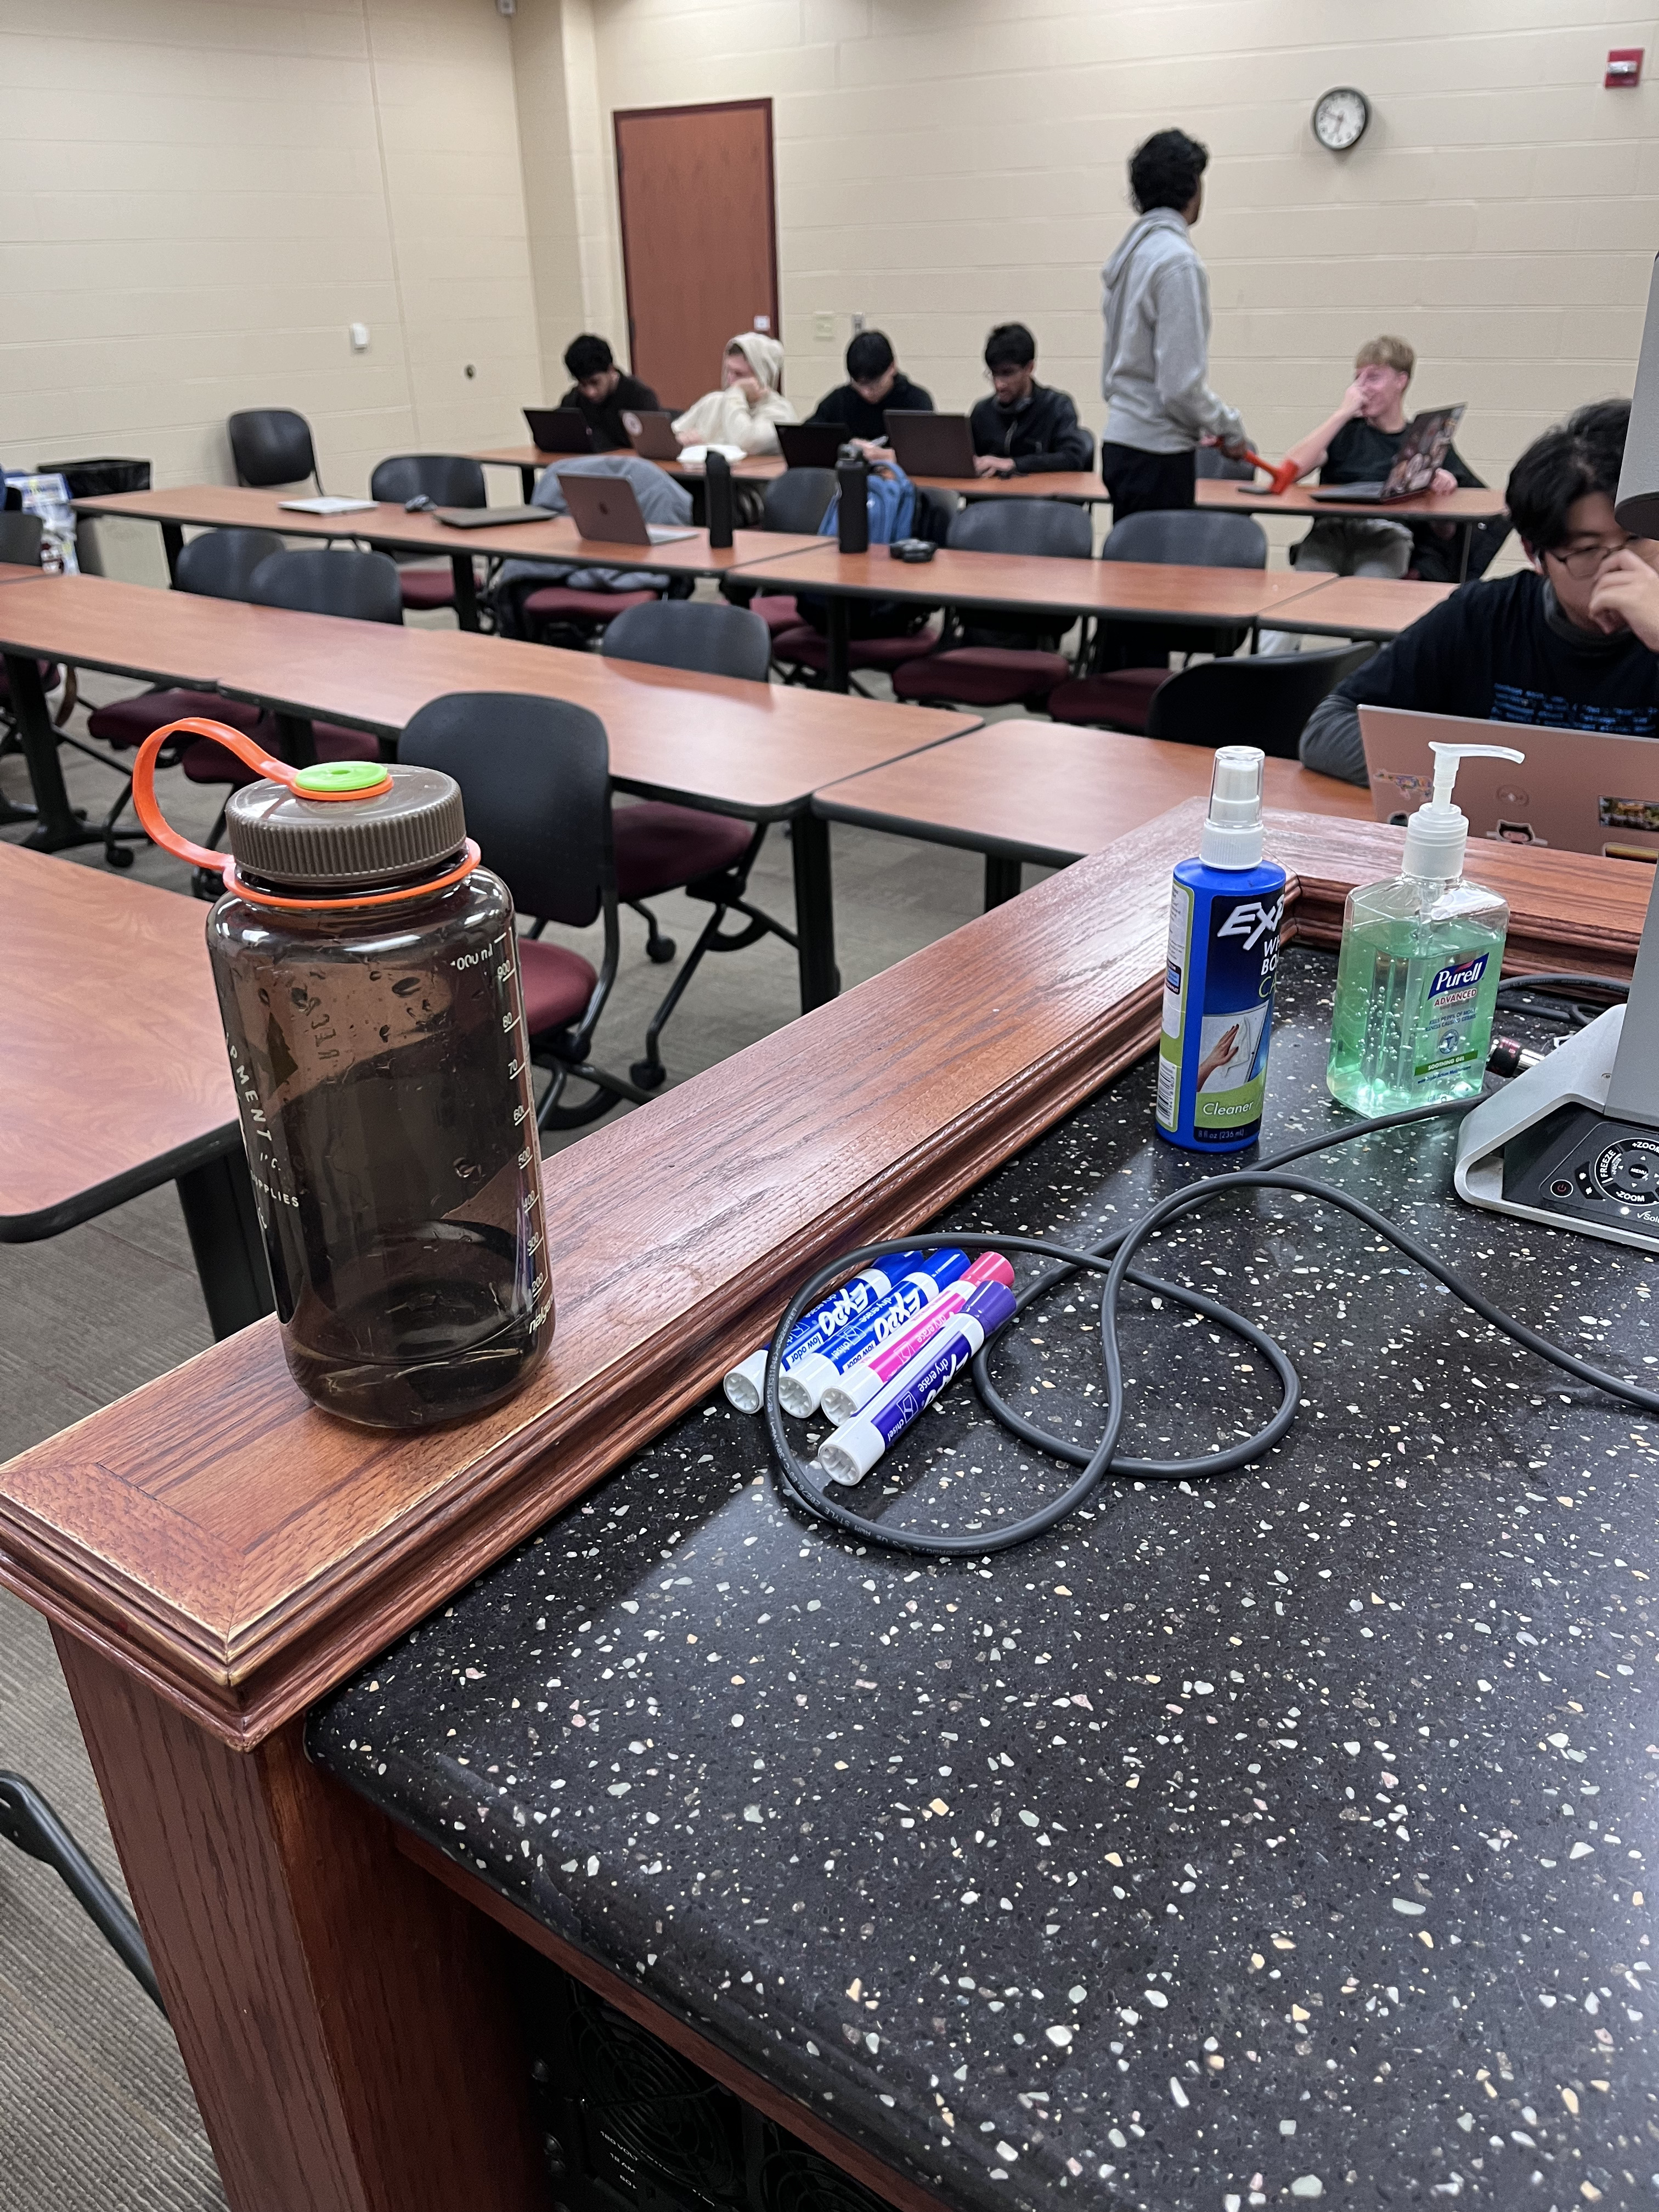bottle: (127, 704, 561, 1444)
